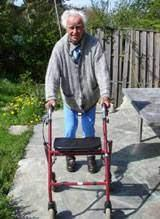walking_frame: (42, 10, 114, 219)
